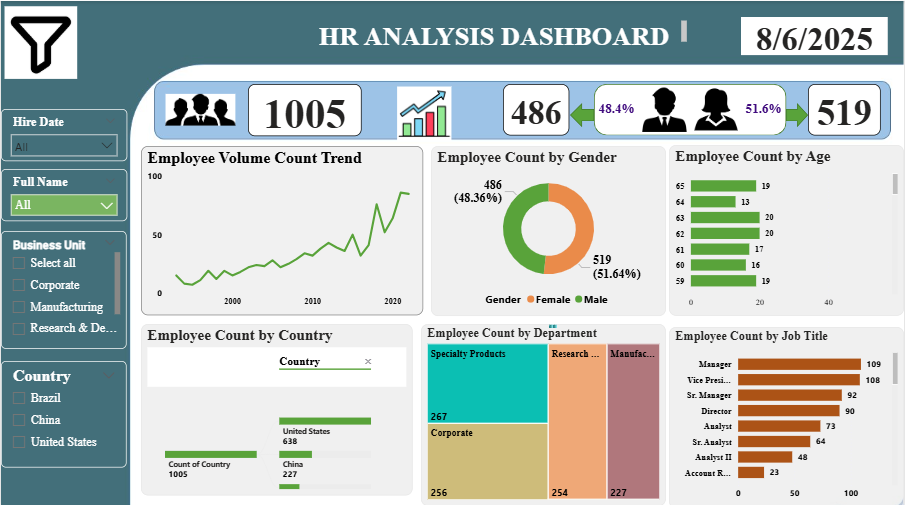

Layout of this report page (visuals, bound fields, positions):
{"tool":"powerbi","page":{"name":"Dashboard","canvas":[1280,720],"ordinal":0},"visuals":[{"type":"card","fields":{"Values":["Employee Data.Total_Count"]},"box":[349.4,117.6,161.3,73.9],"z":0},{"type":"image","box":[228.5,117.6,109.2,73.9],"z":1000},{"type":"lineChart","title":"Employee Volume Count Trend","fields":{"Category":["Employee Data.Hire Date.Variation.Date Hierarchy.Year"],"Y":["CountNonNull(Employee Data.Employee ID)"]},"box":[198.8,205.9,400.4,240.3],"z":2000},{"type":"donutChart","title":"Employee Count by Gender","fields":{"Category":["Employee Data.Gender"],"Y":["CountNonNull(Employee Data.Employee ID)"]},"box":[609.4,205.5,333.1,240.9],"z":3000},{"type":"clusteredBarChart","title":"Employee Count by Age","fields":{"Category":["Employee Data.Age"],"Y":["CountNonNull(Employee Data.Employee ID)"]},"box":[946.8,204.1,333.1,242.4],"z":4000},{"type":"treemap","title":"Employee Count by Department","fields":{"Group":["Employee Data.Business Unit"],"Values":["CountNonNull(Employee Data.Employee ID)"]},"box":[595.3,457.8,347.2,258],"z":5000},{"type":"barChart","title":"Employee Count by Job Title","fields":{"Category":["Employee Data.Job Title"],"Y":["CountNonNull(Employee Data.Employee ID)"]},"box":[946.8,461.9,333.2,257.4],"z":6000},{"type":"card","fields":{"Values":["Employee Data.Total Male Count"]},"box":[712.1,117,94.2,72.8],"z":7000},{"type":"shape","box":[840.5,117,272.6,72.8],"z":8000},{"type":"image","box":[903.3,117,74.2,72.8],"z":9000},{"type":"image","box":[977.5,117,71.3,72.8],"z":10000},{"type":"card","fields":{"Values":["Employee Data.Total Female Count"]},"box":[1144.4,117,102.7,72.8],"z":11000},{"type":"shape","box":[1113,144.1,31.4,34.2],"z":12000},{"type":"shape","box":[806.2,144.1,34.2,34.2],"z":13000},{"type":"card","fields":{"Values":["Employee Data.Female%"]},"box":[1048.8,127,64.2,51.4],"z":14000},{"type":"card","fields":{"Values":["Employee Data.Male%"]},"box":[840.5,127,64.2,51.4],"z":15000},{"type":"image","box":[523.7,115.6,151.3,87],"z":16000},{"type":"slicer","fields":{"Values":["Employee Data.Business Unit"]},"box":[0,325.4,178.4,167],"z":17000},{"type":"slicer","fields":{"Values":["Employee Data.Country"]},"box":[0,510.9,178.4,151.3],"z":18000},{"type":"slicer","fields":{"Values":["Employee Data.Full Name"]},"box":[0,238.1,178.6,73.7],"z":19000},{"type":"slicer","fields":{"Values":["Employee Data.Hire Date"]},"box":[0,153.1,178.6,73.7],"z":20000},{"type":"textbox","box":[445.2,22.8,532.3,45.7],"z":21000},{"type":"decompositionTreeVisual","title":"Employee Count by Country","fields":{"Analyze":["CountNonNull(Employee Data.Country)"],"ExplainBy":["Employee Data.Country"]},"box":[198.4,458.1,385.3,242.6],"z":22000},{"type":"image","box":[0,1.4,113.4,114.8],"z":23000},{"type":"card","fields":{"Values":["Min(Query1.Date)"]},"box":[1048.8,22.7,208.3,53.9],"z":24000}]}

Visuals, with their boxes in screenshot pixels (x1, y1, x2, y2), scaled from the page's 1280x720 canvas onto the 905x505 screenshot:
card - Employee Data.Total_Count: BBox(247, 82, 361, 134)
image: BBox(162, 82, 239, 134)
"Employee Volume Count Trend" lineChart: BBox(141, 144, 424, 313)
"Employee Count by Gender" donutChart: BBox(431, 144, 666, 313)
"Employee Count by Age" clusteredBarChart: BBox(669, 143, 904, 313)
"Employee Count by Department" treemap: BBox(421, 321, 666, 502)
"Employee Count by Job Title" barChart: BBox(669, 324, 904, 504)
card - Employee Data.Total Male Count: BBox(503, 82, 570, 133)
shape: BBox(594, 82, 787, 133)
image: BBox(639, 82, 691, 133)
image: BBox(691, 82, 742, 133)
card - Employee Data.Total Female Count: BBox(809, 82, 882, 133)
shape: BBox(787, 101, 809, 125)
shape: BBox(570, 101, 594, 125)
card - Employee Data.Female%: BBox(742, 89, 787, 125)
card - Employee Data.Male%: BBox(594, 89, 640, 125)
image: BBox(370, 81, 477, 142)
slicer - Employee Data.Business Unit: BBox(0, 228, 126, 345)
slicer - Employee Data.Country: BBox(0, 358, 126, 464)
slicer - Employee Data.Full Name: BBox(0, 167, 126, 219)
slicer - Employee Data.Hire Date: BBox(0, 107, 126, 159)
textbox: BBox(315, 16, 691, 48)
"Employee Count by Country" decompositionTreeVisual: BBox(140, 321, 413, 491)
image: BBox(0, 1, 80, 82)
card - Min(Query1.Date): BBox(742, 16, 889, 54)
